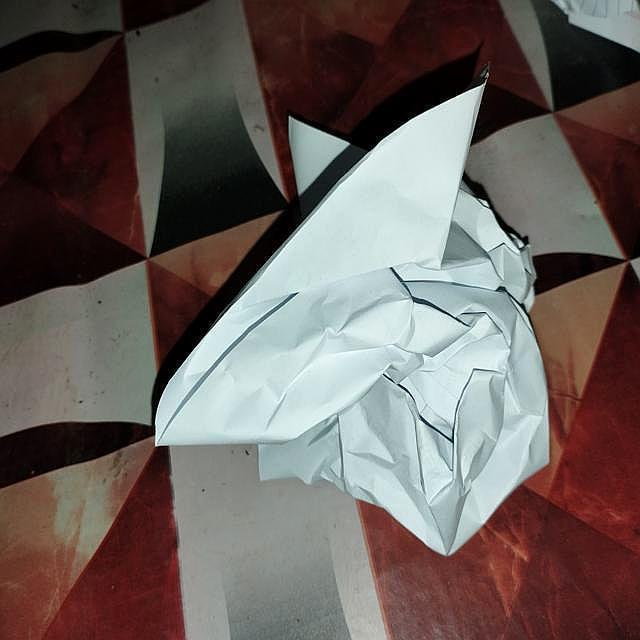Biodegradable: (154, 84, 551, 555)
